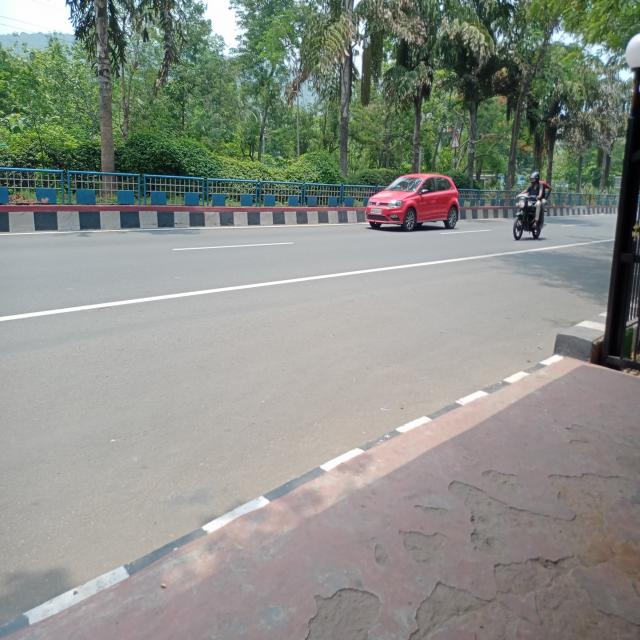bike: (508, 192, 556, 252)
car: (362, 162, 464, 243)
